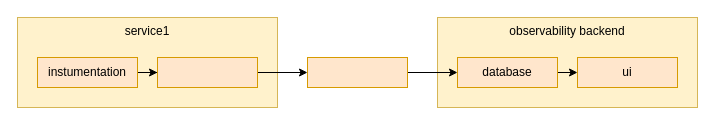
Image size: 715x125. Some labels were removed from this diagram. Each missing label, with the centre of its shape:
"collector" goes at (357,72).
"exporter" goes at (207,72).
